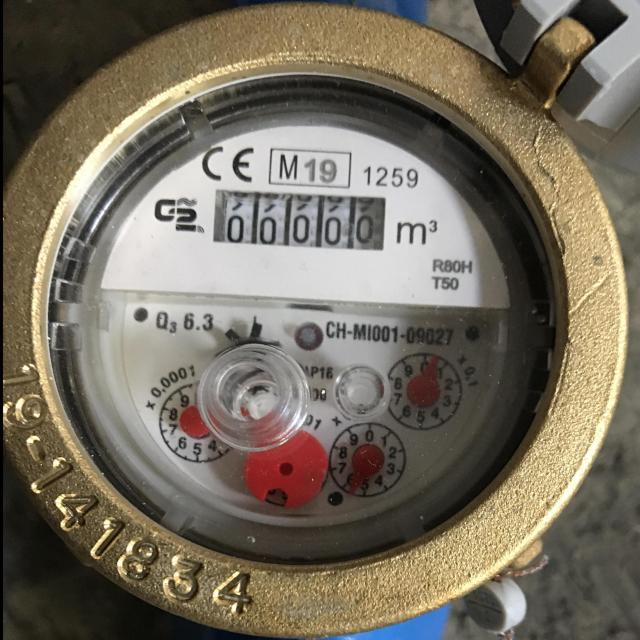gaz_meter: (73, 110, 510, 529)
indication: (211, 187, 386, 251)
